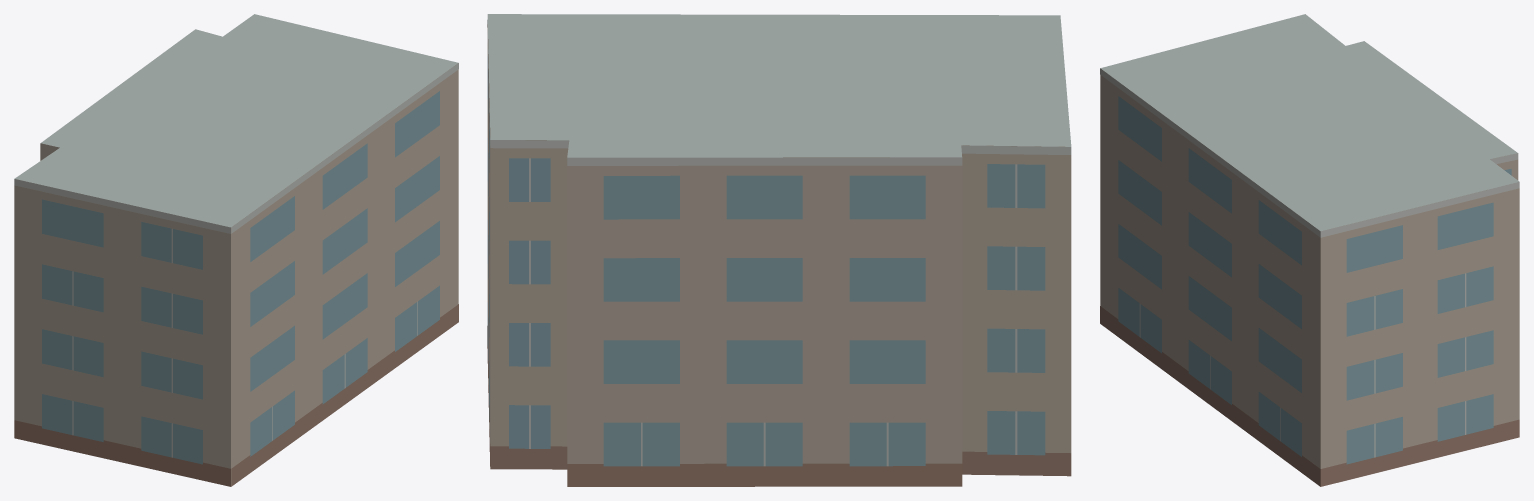
File: survey-upis-33002914.glb
The picture shows the model from 3 angles, left to right: view 1: azimuth 30°, elevation 25°; view 2: azimuth 150°, elevation 25°; view 3: azimuth 270°, elevation 25°; orthographic projection. The views are drawn at different scales.
Visible parts, largest first — view 1: survey-upis-33002914.tmp; view 2: survey-upis-33002914.tmp; view 3: survey-upis-33002914.tmp.
Boxes of the visible parts, box(x1,y1,x2,y2) form: survey-upis-33002914.tmp: box(14, 14, 458, 486); survey-upis-33002914.tmp: box(487, 14, 1071, 486); survey-upis-33002914.tmp: box(1100, 14, 1519, 486).
Size of the model in its own units: 17.71 by 9.7 by 14.44.
